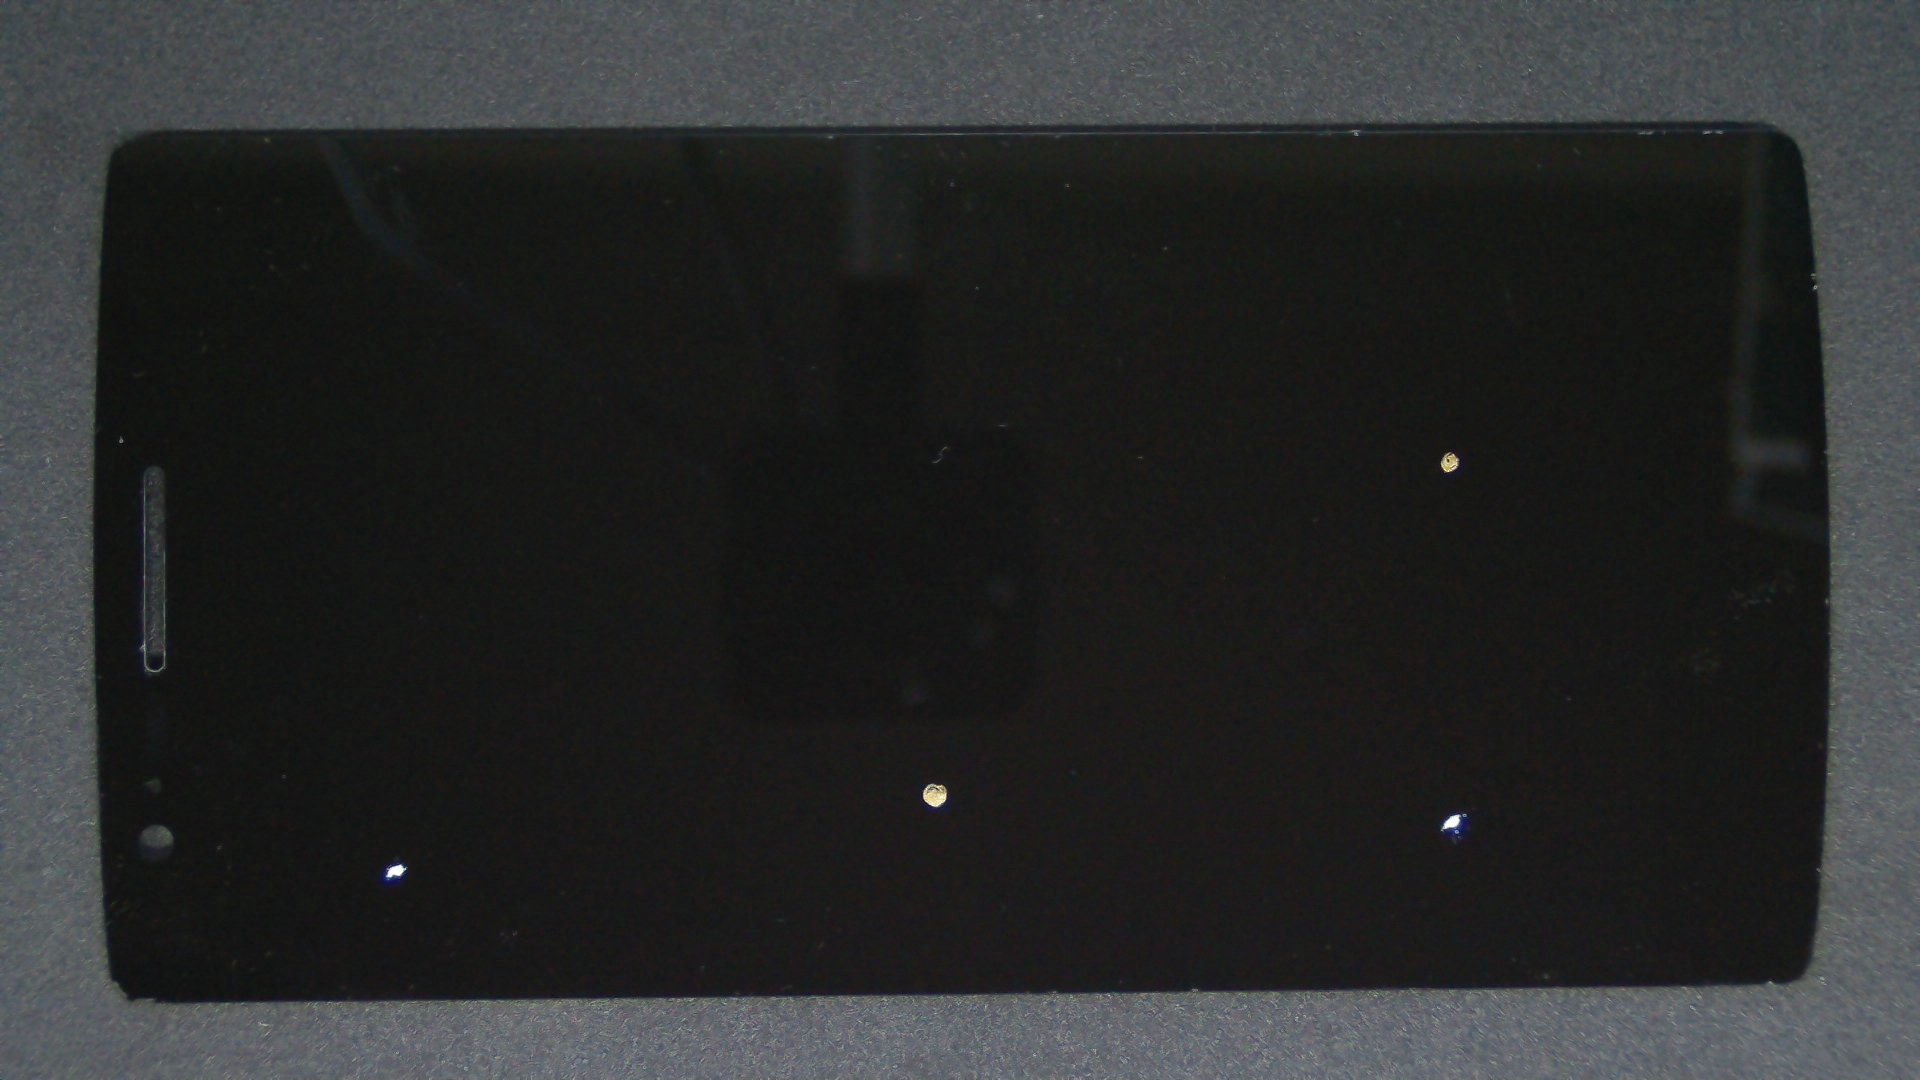oil: (731, 406, 1920, 1080), (467, 390, 1398, 1080), (725, 224, 1920, 675), (202, 429, 604, 1080)
